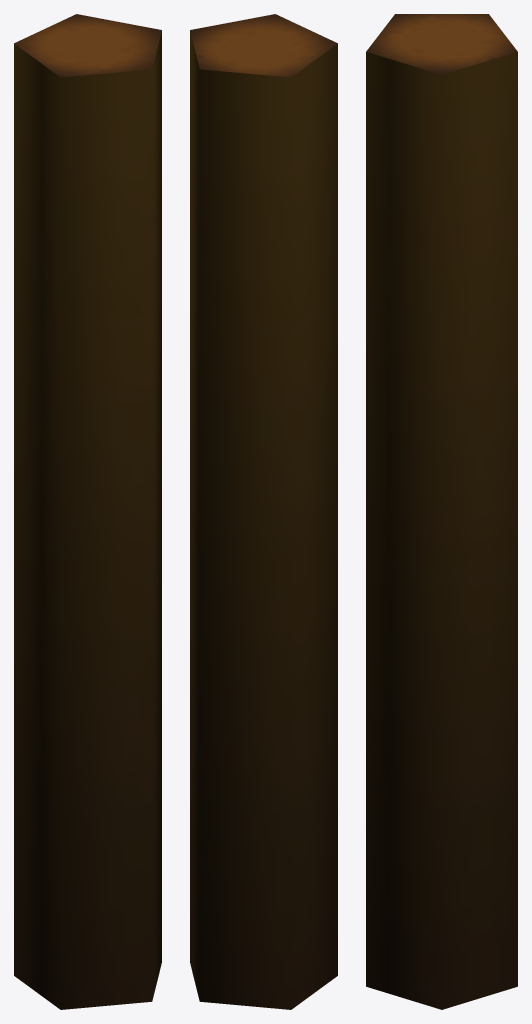
The model's file is Stick_A.fbx.
3 views of the same model, side by side, from view 1: azimuth 30°, elevation 25°; view 2: azimuth 150°, elevation 25°; view 3: azimuth 270°, elevation 25° (orthographic).
Parts seen in each view (by area): view 1: Stick_A; view 2: Stick_A; view 3: Stick_A.
Boxes of the visible parts, box(x1,y1,x2,y2) form: Stick_A: box(14, 14, 161, 1009); Stick_A: box(190, 14, 337, 1009); Stick_A: box(366, 14, 517, 1009).
Size of the model in its own units: 9.16 by 9.63 by 65.47.
Materials: 1 (1 with a texture image).
